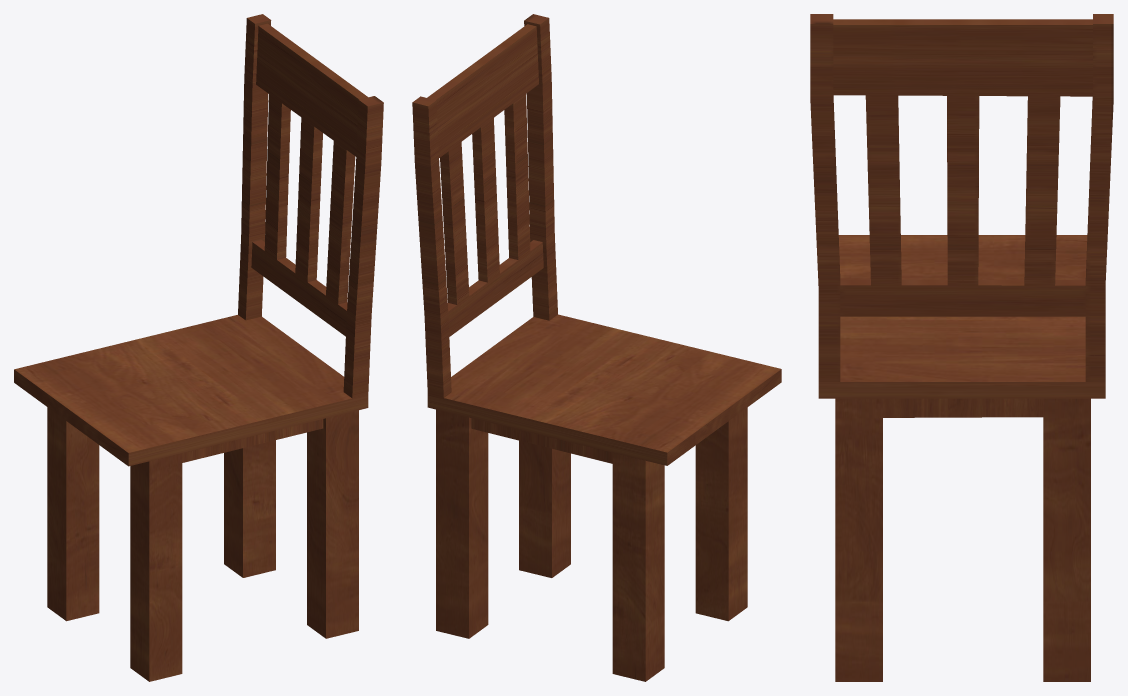
File: chair.fbx
3 renders of one model, left to right at view 1: azimuth 30°, elevation 25°; view 2: azimuth 150°, elevation 25°; view 3: azimuth 270°, elevation 25°, orthographic. The views are drawn at different scales.
Parts seen in each view (by area): view 1: back, legs; view 2: back, legs; view 3: back, legs.
Part boxes in pixels (x1=…): back: x1=14, y1=14, x2=383, y2=466; legs: x1=47, y1=407, x2=358, y2=681; back: x1=412, y1=14, x2=781, y2=465; legs: x1=436, y1=407, x2=747, y2=681; back: x1=810, y1=14, x2=1113, y2=398; legs: x1=835, y1=398, x2=1090, y2=681.
Bounding box in the file's own units: 143 × 288 × 119.
